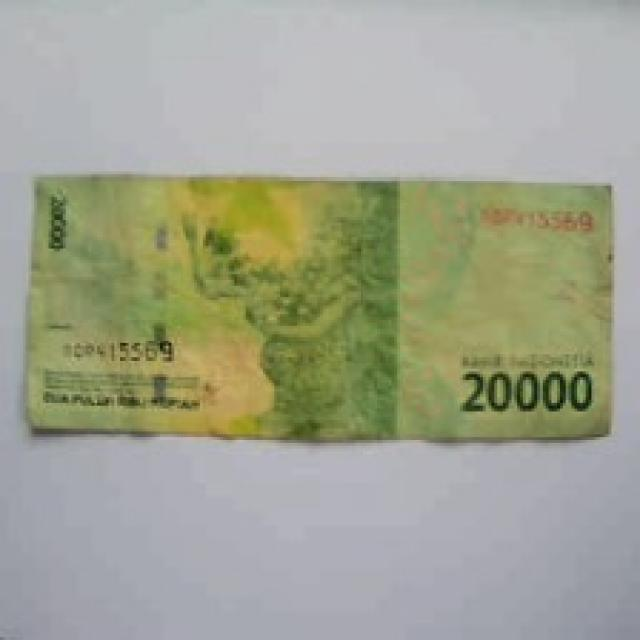dua puluh ribu rupiah: (0, 109, 635, 571)
